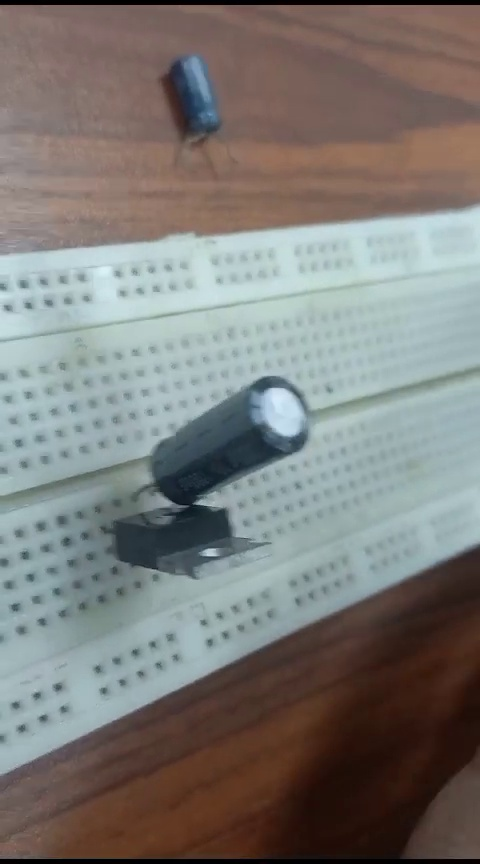capacitor: (119, 373, 319, 508), (156, 40, 248, 187)
voltage regulator: (100, 508, 279, 581)
